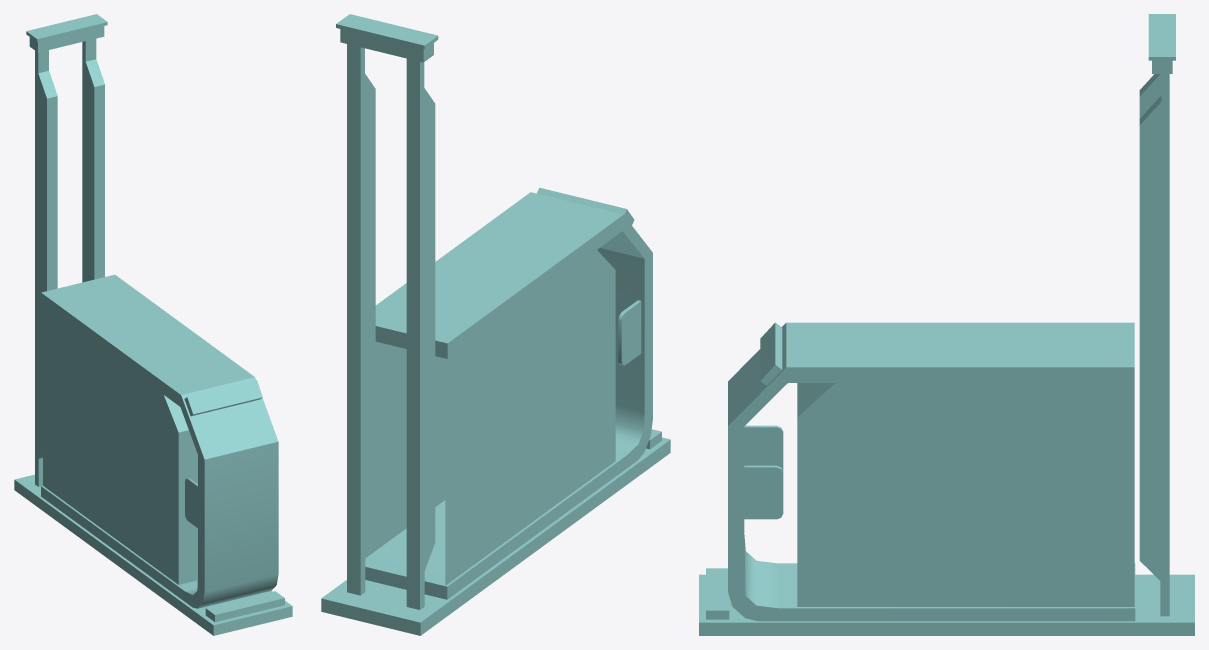
File: TS2_Collider_YanTi_1.FBX
3 views of the same model, side by side, from view 1: azimuth 30°, elevation 25°; view 2: azimuth 150°, elevation 25°; view 3: azimuth 270°, elevation 25° (orthographic). The views are drawn at different scales.
Parts seen in each view (by area): view 1: Collider_YanTi_1; view 2: Collider_YanTi_1; view 3: Collider_YanTi_1.
Boxes of the visible parts, left/top/right/bottom form: Collider_YanTi_1: left=14, top=14, right=292, bottom=635; Collider_YanTi_1: left=321, top=14, right=670, bottom=635; Collider_YanTi_1: left=699, top=14, right=1194, bottom=635.
Bounding box in the file's own units: 0.718 × 4.02 × 3.14.
